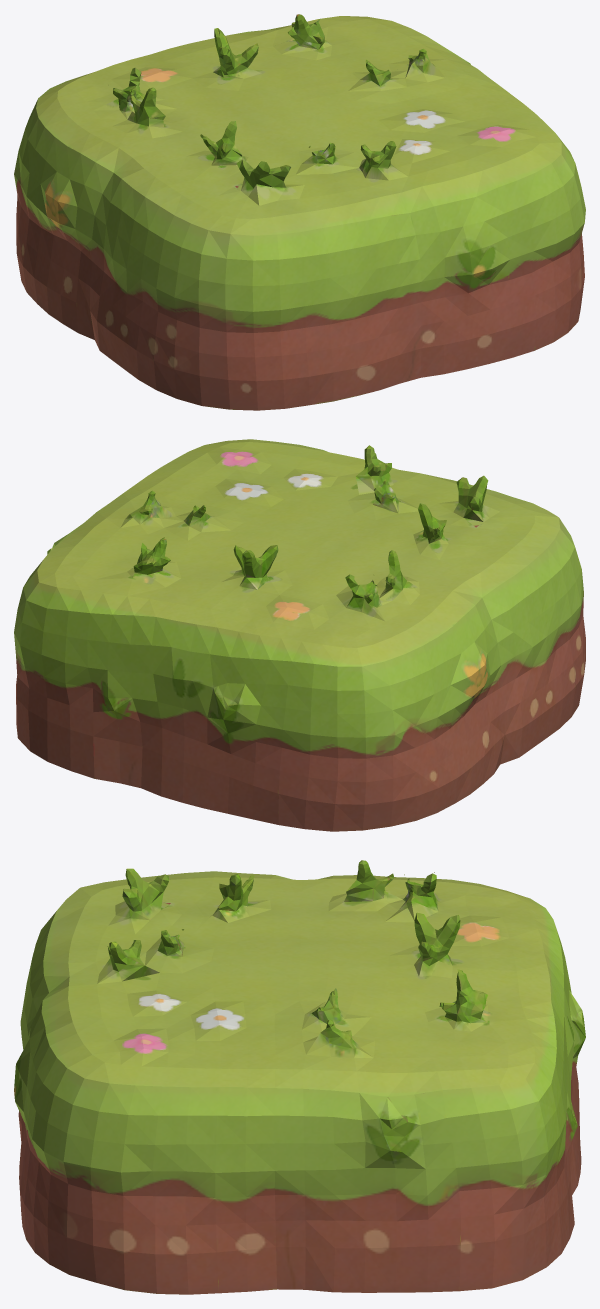
File: Stage_03_Ground_Grass_001.fbx
3 renders of one model, top to bottom at view 1: azimuth 30°, elevation 25°; view 2: azimuth 150°, elevation 25°; view 3: azimuth 270°, elevation 25°, orthographic. The views are drawn at different scales.
Parts seen in each view (by area): view 1: Stage_03_Ground_Grass_001; view 2: Stage_03_Ground_Grass_001; view 3: Stage_03_Ground_Grass_001.
Part boxes in pixels (bbox=[...]): Stage_03_Ground_Grass_001: bbox=[14, 14, 585, 410]; Stage_03_Ground_Grass_001: bbox=[14, 439, 585, 831]; Stage_03_Ground_Grass_001: bbox=[14, 860, 585, 1294].
Size of the model in its own units: 97.1 by 47.32 by 97.47.
